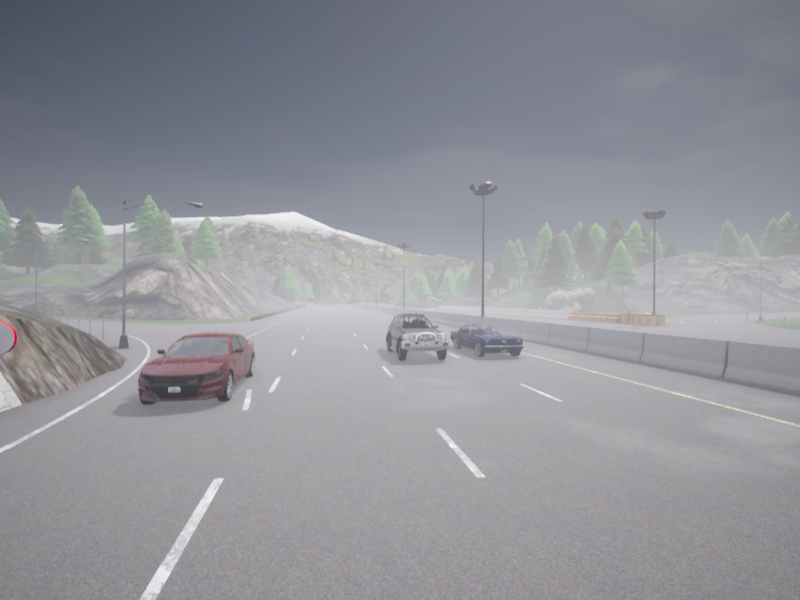vehicle: (138, 330, 254, 404), (386, 313, 448, 360), (450, 324, 523, 356), (387, 301, 393, 304)
